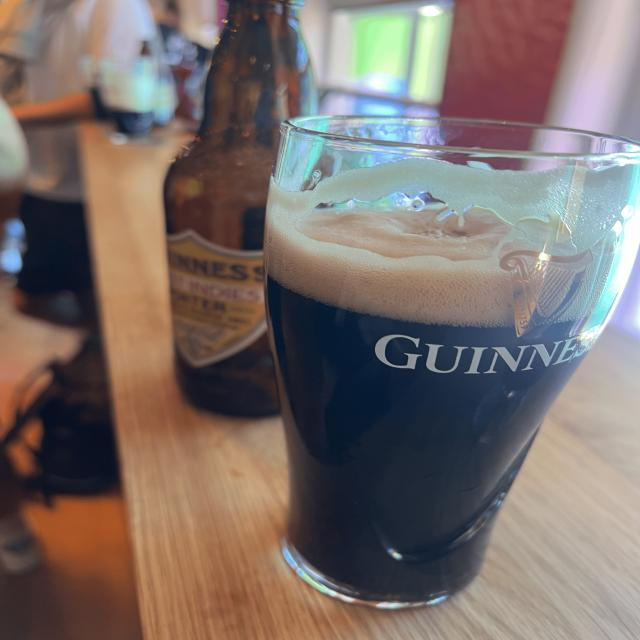too_high_glass: (261, 119, 640, 608)
